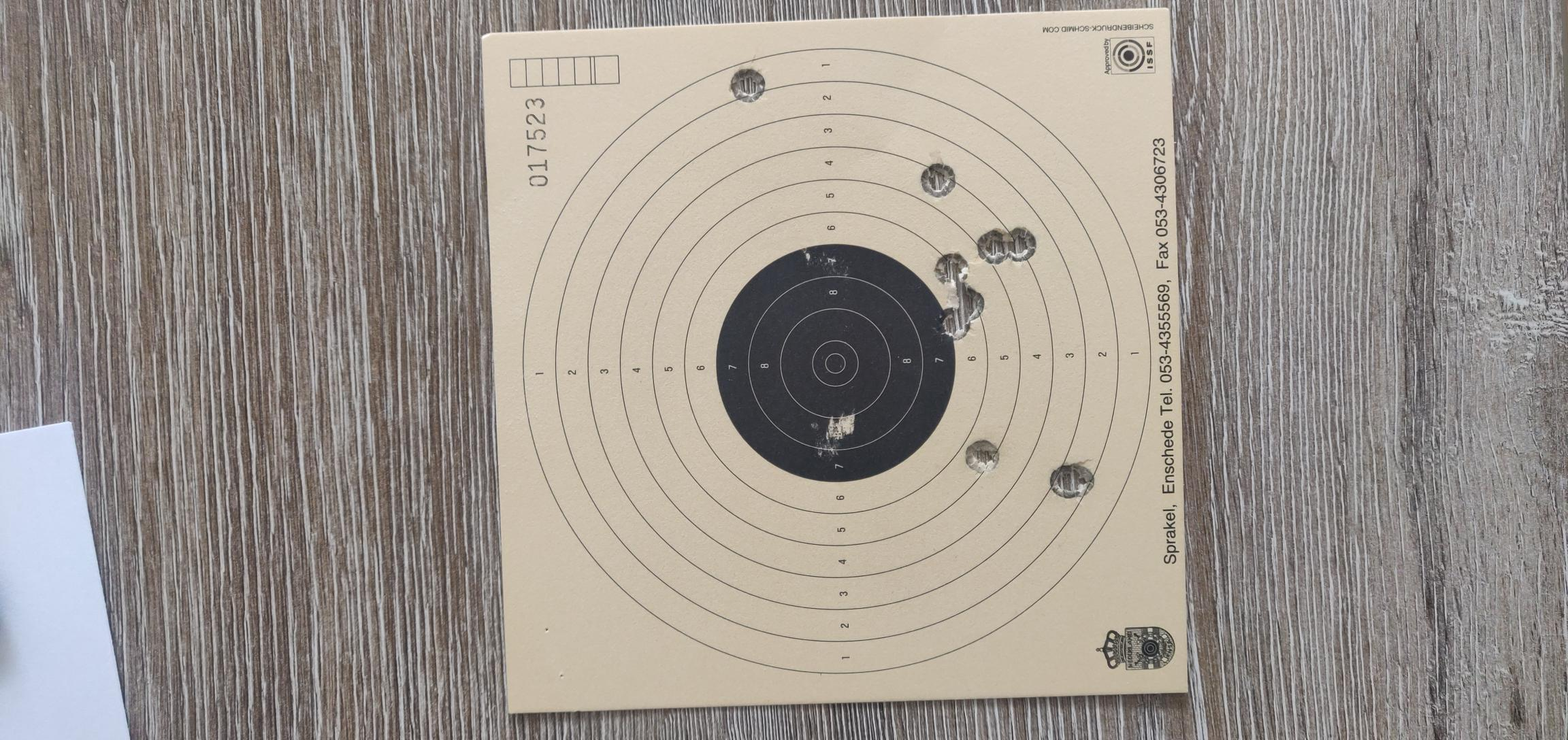hole: (504, 494, 597, 517), (1345, 343, 1431, 362), (557, 454, 640, 472), (1147, 433, 1225, 452), (884, 448, 964, 466), (959, 440, 1038, 458), (1003, 460, 1087, 476), (841, 440, 917, 457), (1012, 474, 1084, 489)
